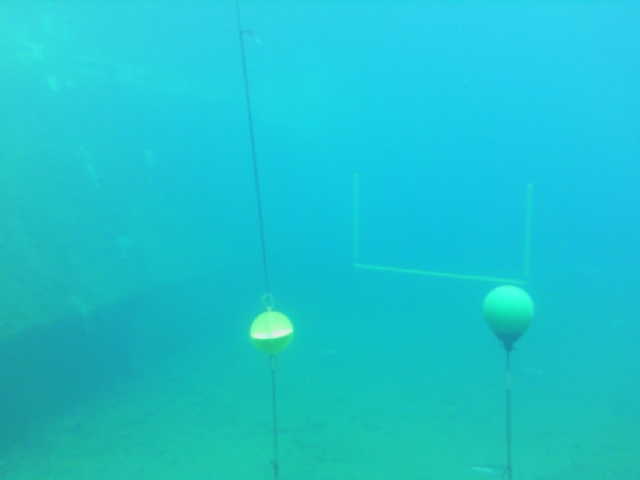buoy_green: (481, 286, 533, 349)
buoy_yellow: (250, 306, 295, 359)
channel: (347, 173, 540, 289)
